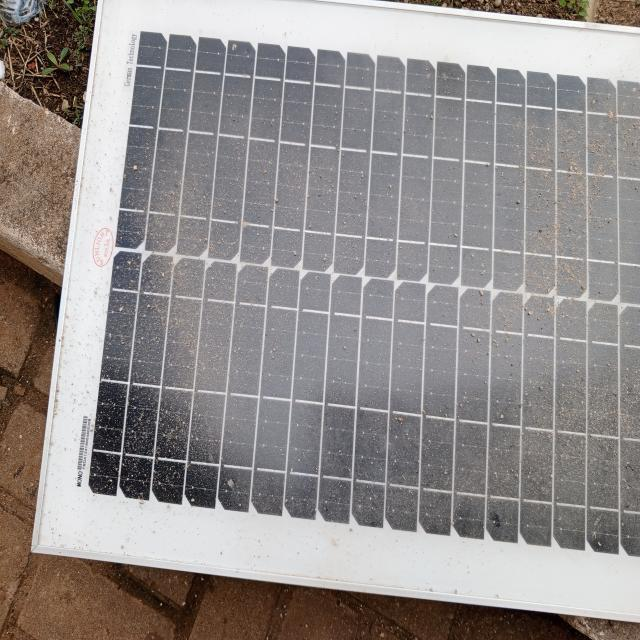Surface Contaminant: (132, 33, 639, 537)
